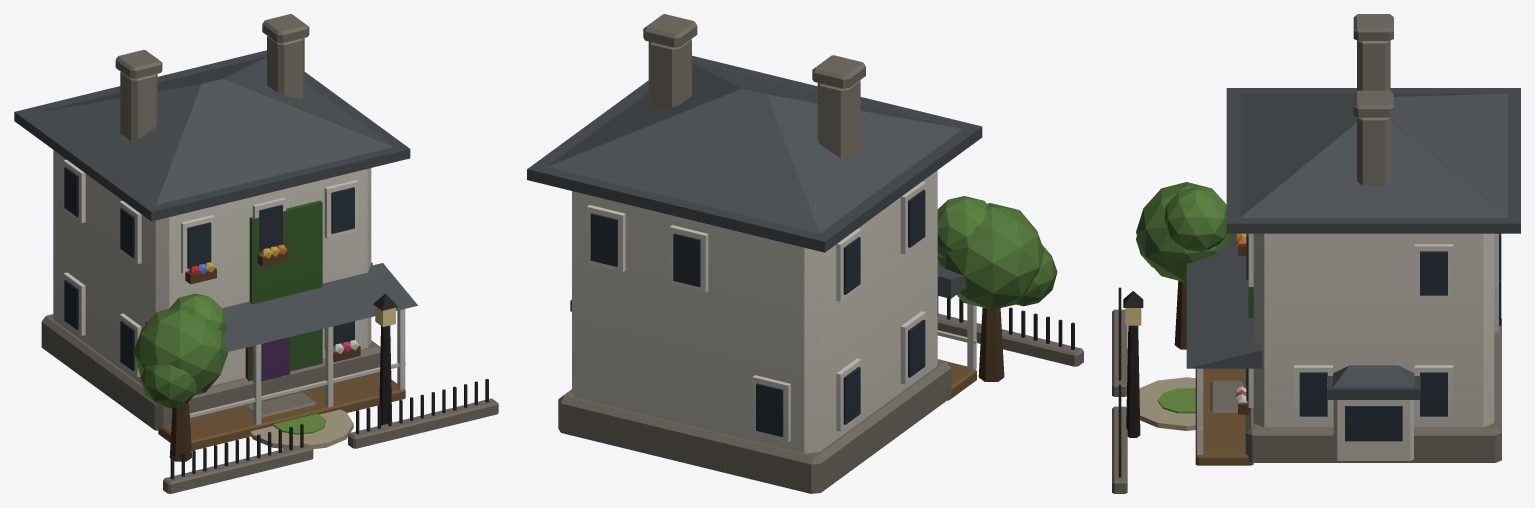
File: villa.glb
3 views of the same model, side by side, from view 1: azimuth 30°, elevation 25°; view 2: azimuth 150°, elevation 25°; view 3: azimuth 270°, elevation 25° (orthographic). The views are drawn at different scales.
Parts seen in each view (by area): view 1: villa_model; view 2: villa_model; view 3: villa_model.
Part boxes in pixels (<box>): villa_model: <box>14,14,498,493</box>; villa_model: <box>527,14,1083,493</box>; villa_model: <box>1112,14,1520,493</box>.
Size of the model in its own units: 0.92 by 0.8813 by 0.9175.
